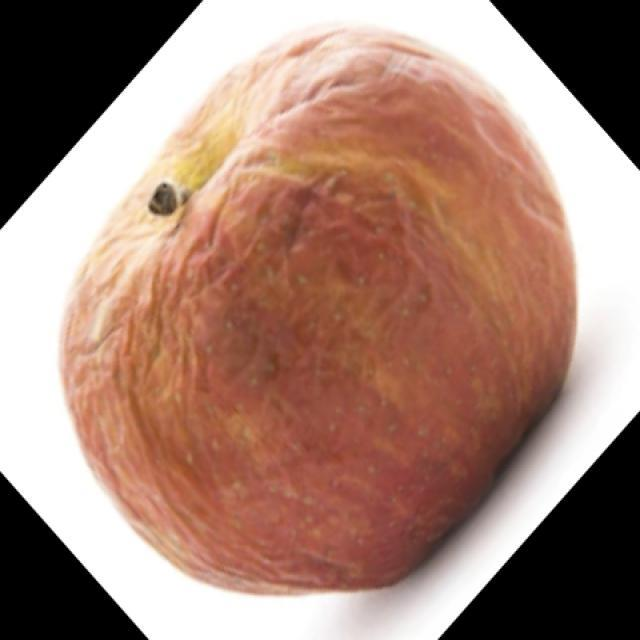Rotten: (67, 38, 565, 590)
